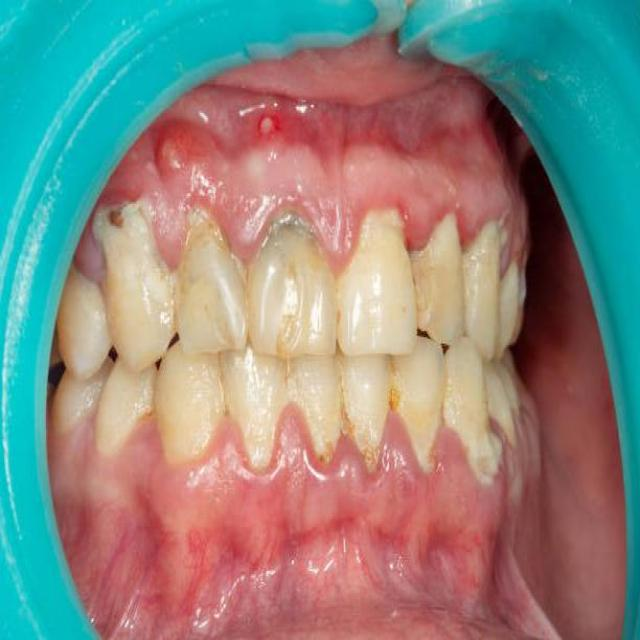Gingivitis: (293, 96, 477, 168), (407, 498, 488, 592), (120, 477, 183, 594), (149, 118, 211, 172), (239, 96, 284, 149)
